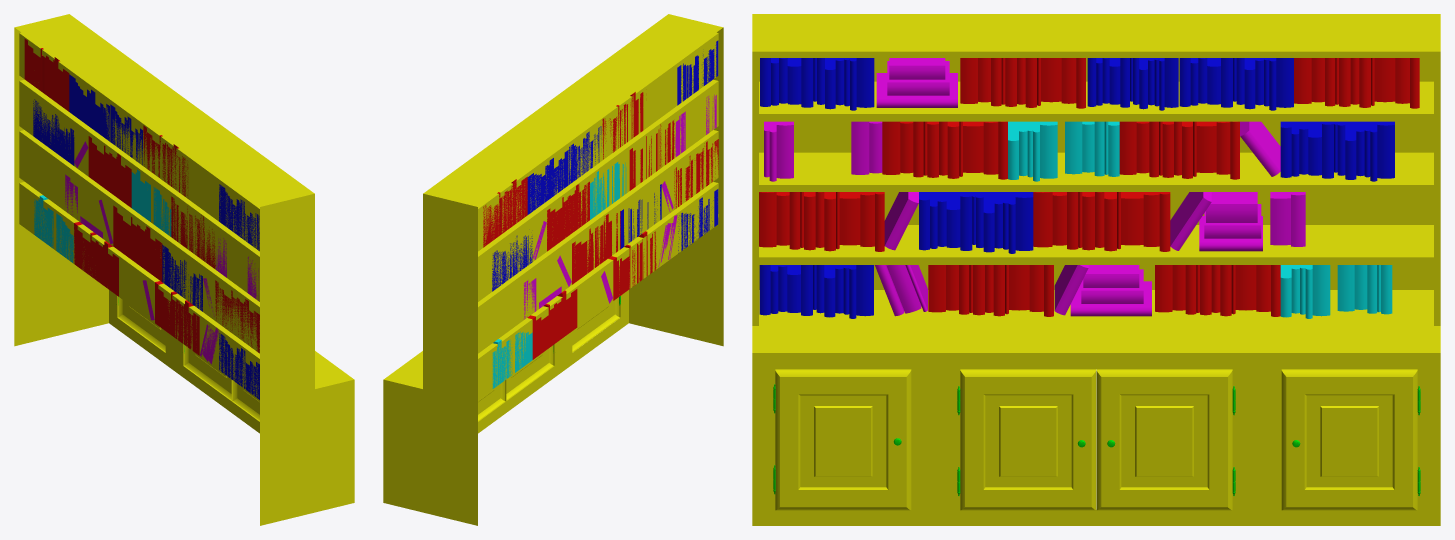
Rendered from FO_Furniture.fbx.
3 views of the same model, side by side, from view 1: azimuth 30°, elevation 25°; view 2: azimuth 150°, elevation 25°; view 3: azimuth 270°, elevation 25° (orthographic). The views are drawn at different scales.
Visible parts, largest first — view 1: Wood, Books_Remaining, Books1_6, Books1_8, Books1_7, Books1, Books1_3, Books1_4, Books3_2, Books2, Books3, Books2_6 (+6 smaller); view 2: Wood, Books_Remaining, Books1_8, Books1, Books1_3, Books1_6, Books2, Books1_7, Books3_2, Books1_5, Books2_2, Books2_4 (+6 smaller); view 3: Wood, Books_Remaining, Books1_6, Books1_5, Books1_4, Books2_5, Books1_3, Books2_2, Books1_8, Books1_7, Books1, Books1_2 (+7 smaller).
Boxes of the visible parts, x1,y1,x2,y2 form: Wood: (14, 14, 354, 525); Books_Remaining: (65, 141, 258, 364); Books1_6: (113, 205, 162, 281); Books1_8: (74, 221, 118, 296); Books1_7: (155, 281, 199, 355); Books1: (24, 38, 69, 111); Books1_3: (88, 136, 131, 207); Books1_4: (171, 196, 215, 268); Books3_2: (34, 195, 73, 262); Books2: (69, 74, 109, 141); Books3: (131, 169, 171, 236); Books2_6: (219, 333, 259, 399); Wood: (383, 14, 723, 525); Books_Remaining: (523, 94, 716, 319); Books1_8: (527, 289, 577, 359); Books1: (483, 176, 527, 247); Books1_3: (547, 181, 589, 251); Books1_6: (572, 211, 620, 284); Books2: (527, 150, 568, 214); Books1_7: (608, 231, 656, 300); Books3_2: (492, 331, 532, 388); Books1_5: (674, 139, 718, 208); Books2_2: (492, 235, 532, 291); Books2_4: (677, 40, 718, 105); Wood: (752, 14, 1440, 525); Books_Remaining: (764, 58, 1305, 316); Books1_6: (1033, 192, 1170, 251); Books1_5: (759, 192, 884, 251); Books1_4: (882, 121, 1007, 179); Books2_5: (919, 192, 1033, 253); Books1_3: (1119, 121, 1239, 179); Books2_2: (1280, 121, 1394, 181); Books1_8: (1155, 265, 1280, 316); Books1_7: (928, 265, 1053, 316); Books1: (1294, 58, 1419, 108); Books1_2: (960, 58, 1085, 108).
Size of the model in its own units: 0.7071 by 2.12 by 2.95.
